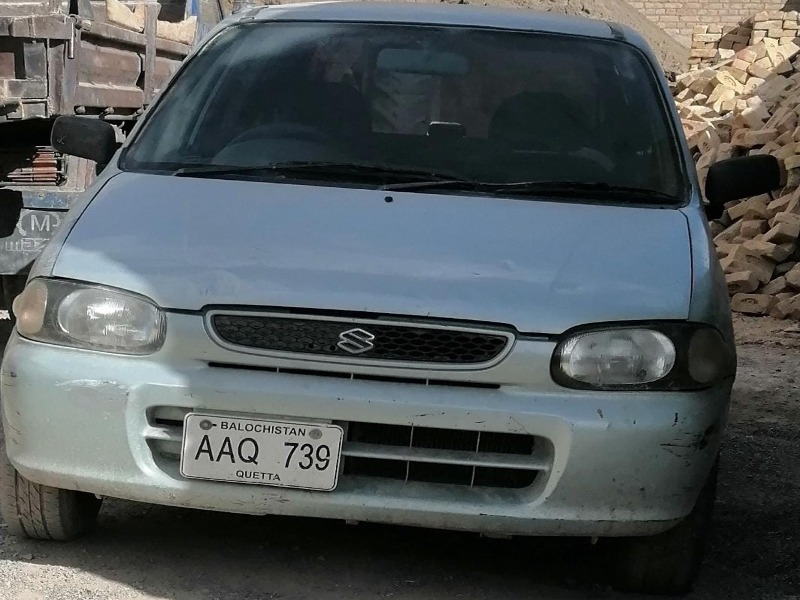License Plate: (174, 409, 345, 496)
